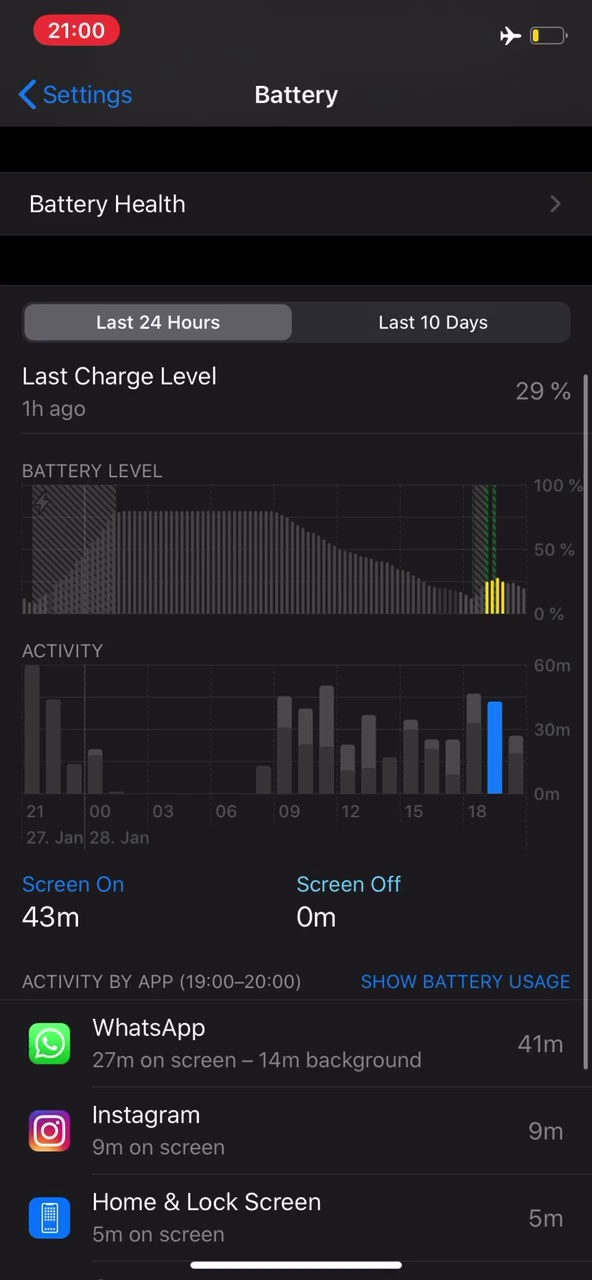activity: (13, 967, 311, 997)
app: (13, 1009, 574, 1077), (11, 1100, 572, 1168), (15, 1185, 576, 1253)
